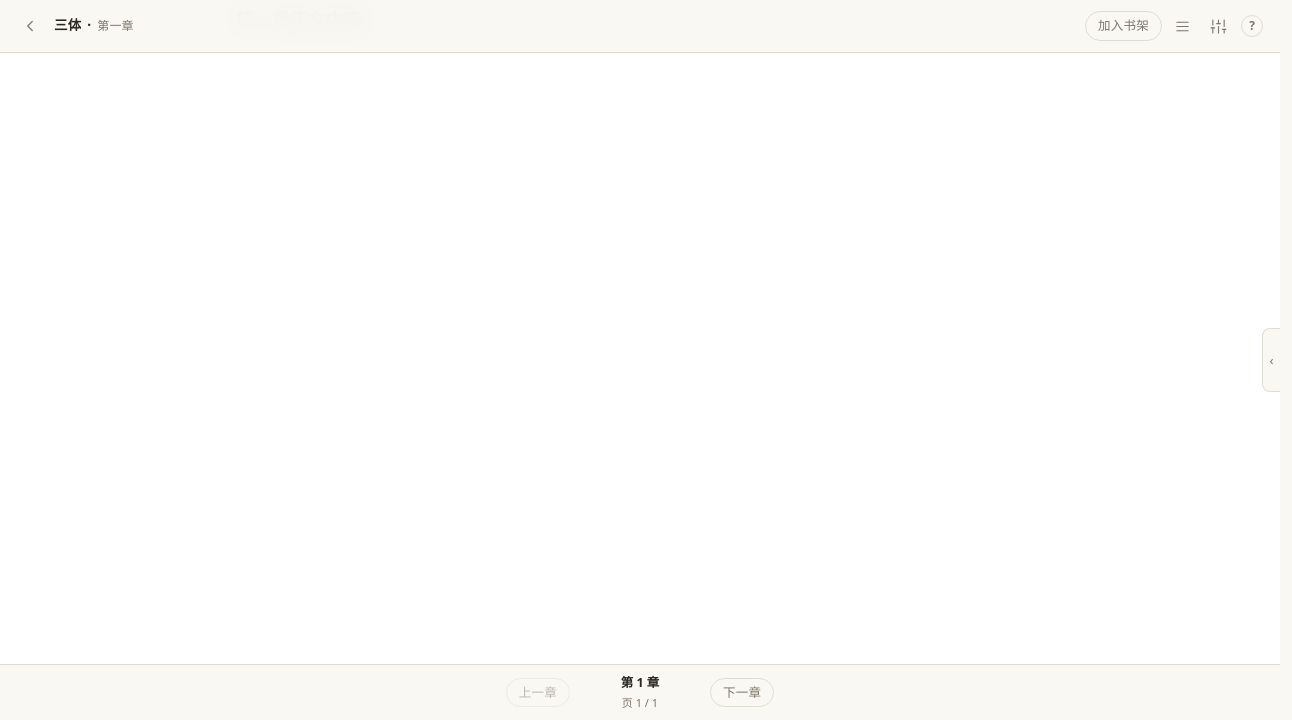
Test case: ReaderPage (source) reading settings › changes font size and line height sliders
Click the button named "阅读设置" at (1218, 26), box [1202, 10, 1234, 42]
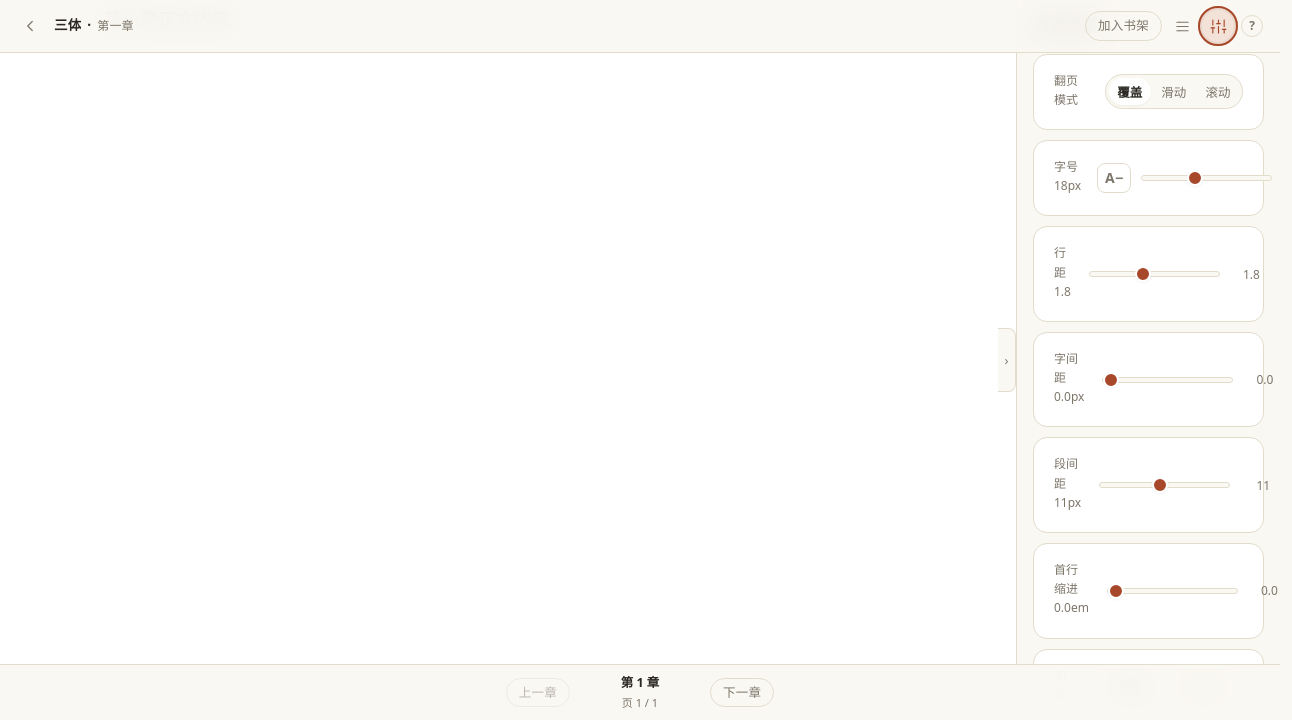
Note: 用 fireEvent.change 设置值
Set the slider named "字号" to "22" at (1241, 178), box [1141, 175, 1272, 181]
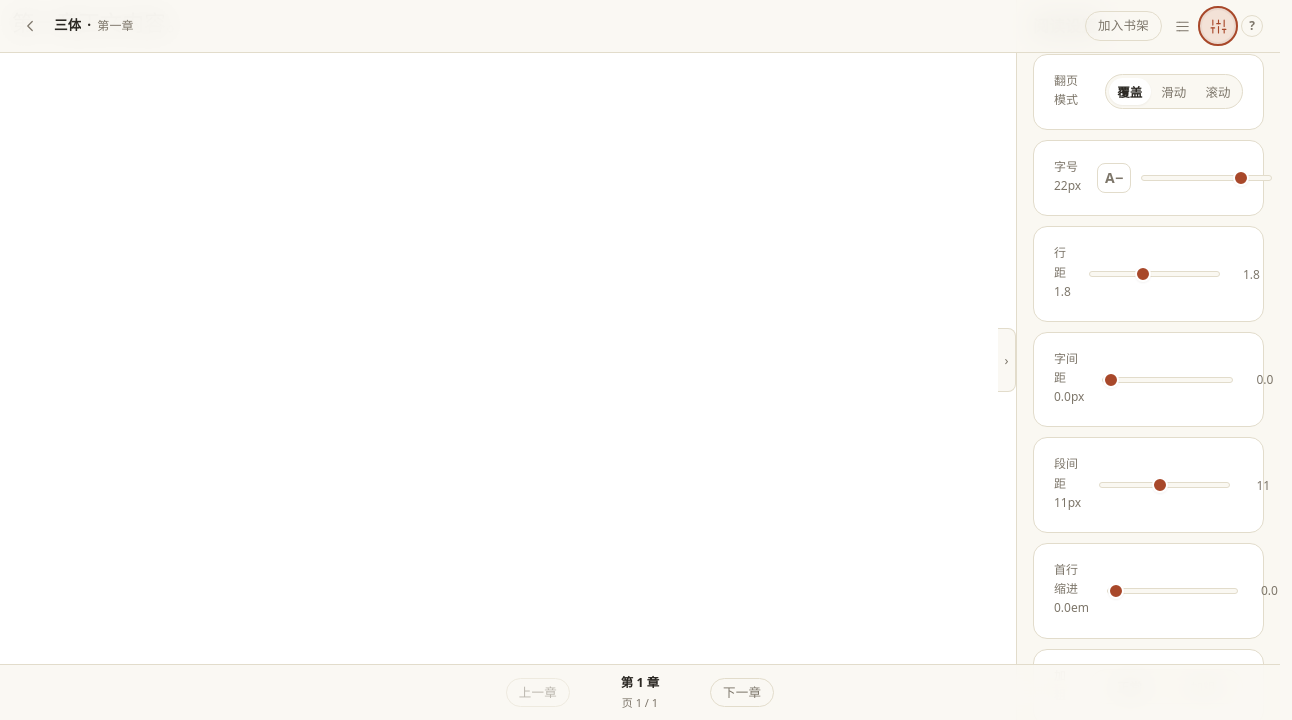
Check: the text "字号 22px" is shown, box [1054, 157, 1081, 195]
Set the slider named "行距" to "2.2" at (1189, 274), box [1089, 271, 1220, 277]
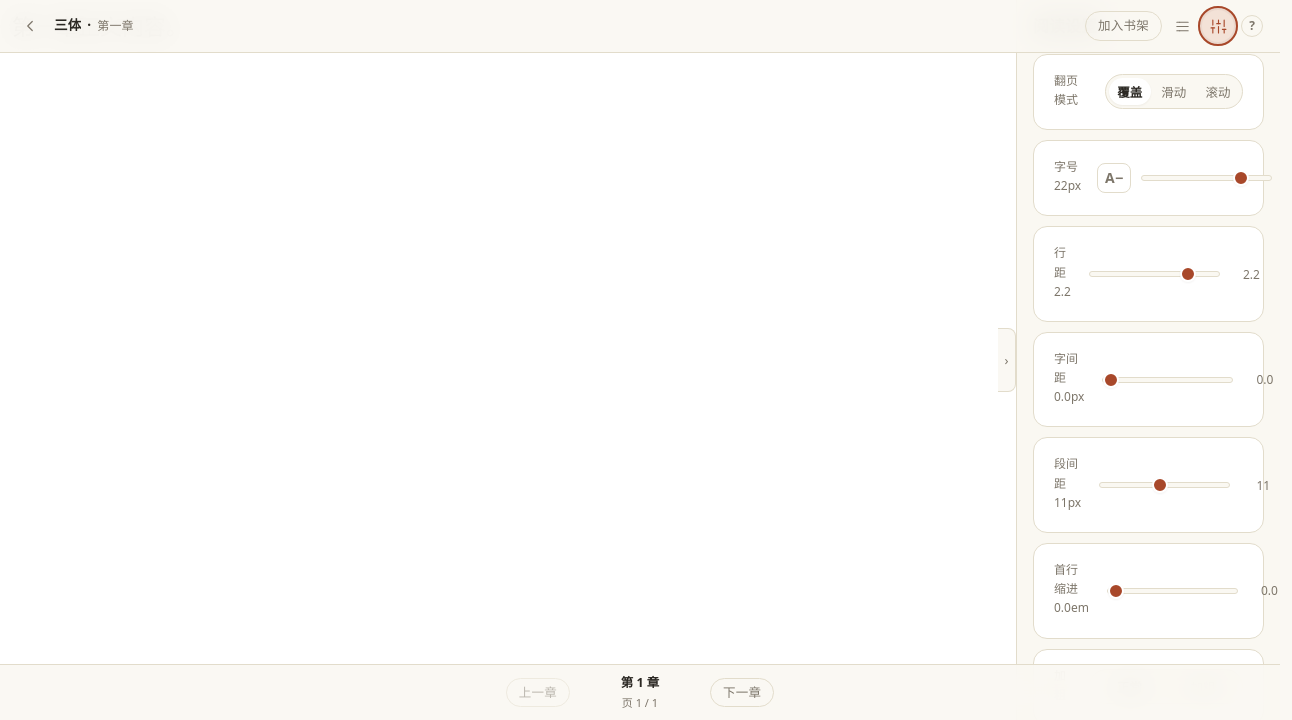
Check: the text "行距 2.2" is shown, box [1054, 243, 1071, 301]
